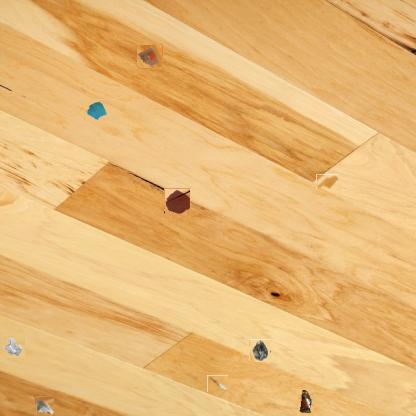dirty: (138, 44, 162, 69), (84, 99, 108, 121), (3, 336, 25, 358), (250, 340, 271, 362), (298, 389, 314, 415), (34, 396, 54, 416), (207, 375, 228, 392)
liquid: (164, 188, 190, 214), (316, 174, 338, 189)
